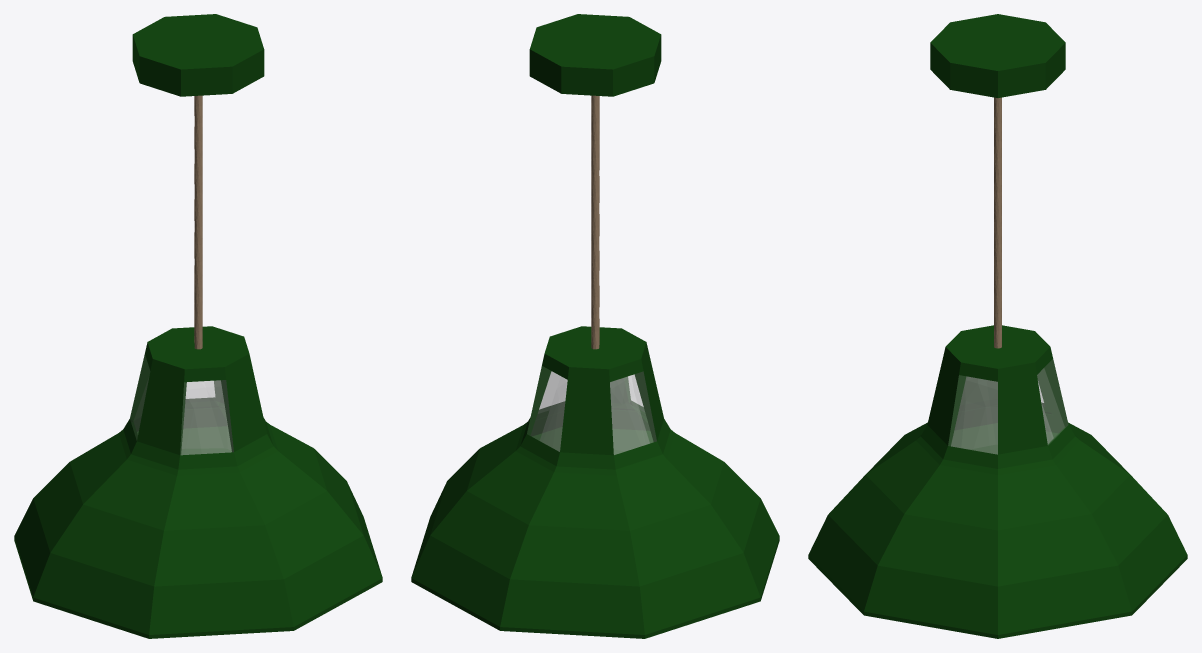
Rendered from lampe_plafond.fbx.
3 renders of one model, left to right at view 1: azimuth 30°, elevation 25°; view 2: azimuth 150°, elevation 25°; view 3: azimuth 270°, elevation 25°, orthographic.
Visible parts, largest first — view 1: plafonnier; view 2: plafonnier; view 3: plafonnier.
Boxes of the visible parts, bbox=[...] form: plafonnier: bbox=[14, 14, 382, 638]; plafonnier: bbox=[411, 14, 779, 638]; plafonnier: bbox=[808, 14, 1187, 638].
Size of the model in its own units: 26.47 by 39.75 by 26.47.
